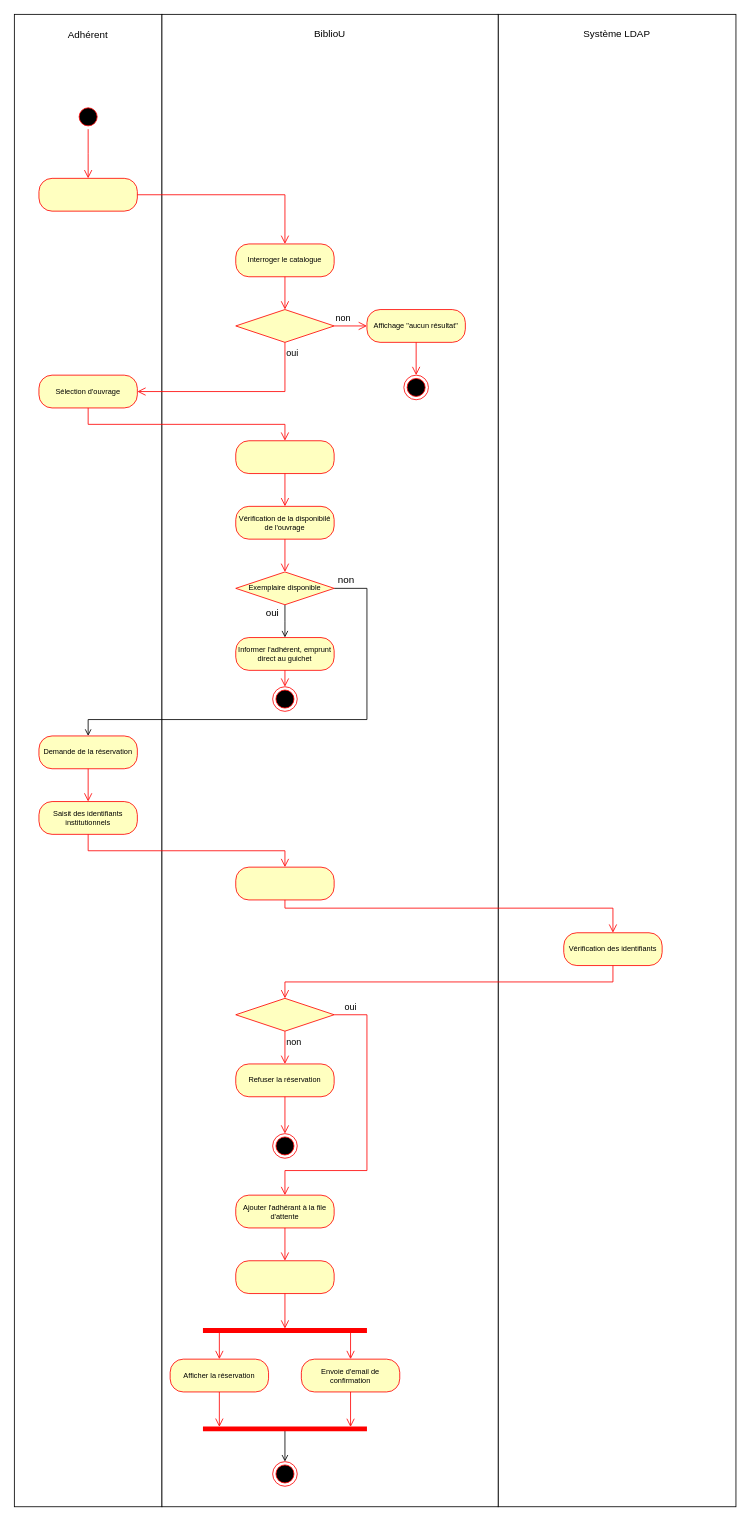
The diagram is 750 pixels wide and 1521 high, and some of its shapes have lost their labels. Each missing label, with the centre of its shape:
Affichage des informations de l'ouvrage: the point at 284,457
Authentification réussie: the point at 284,1014
Enregistrer la réservation: the point at 284,1277
Saisit des critères de recherche: the point at 87,194
Transmition de la demande d'authentification: the point at 284,883
Un ouvrage trouvé: the point at 284,325
